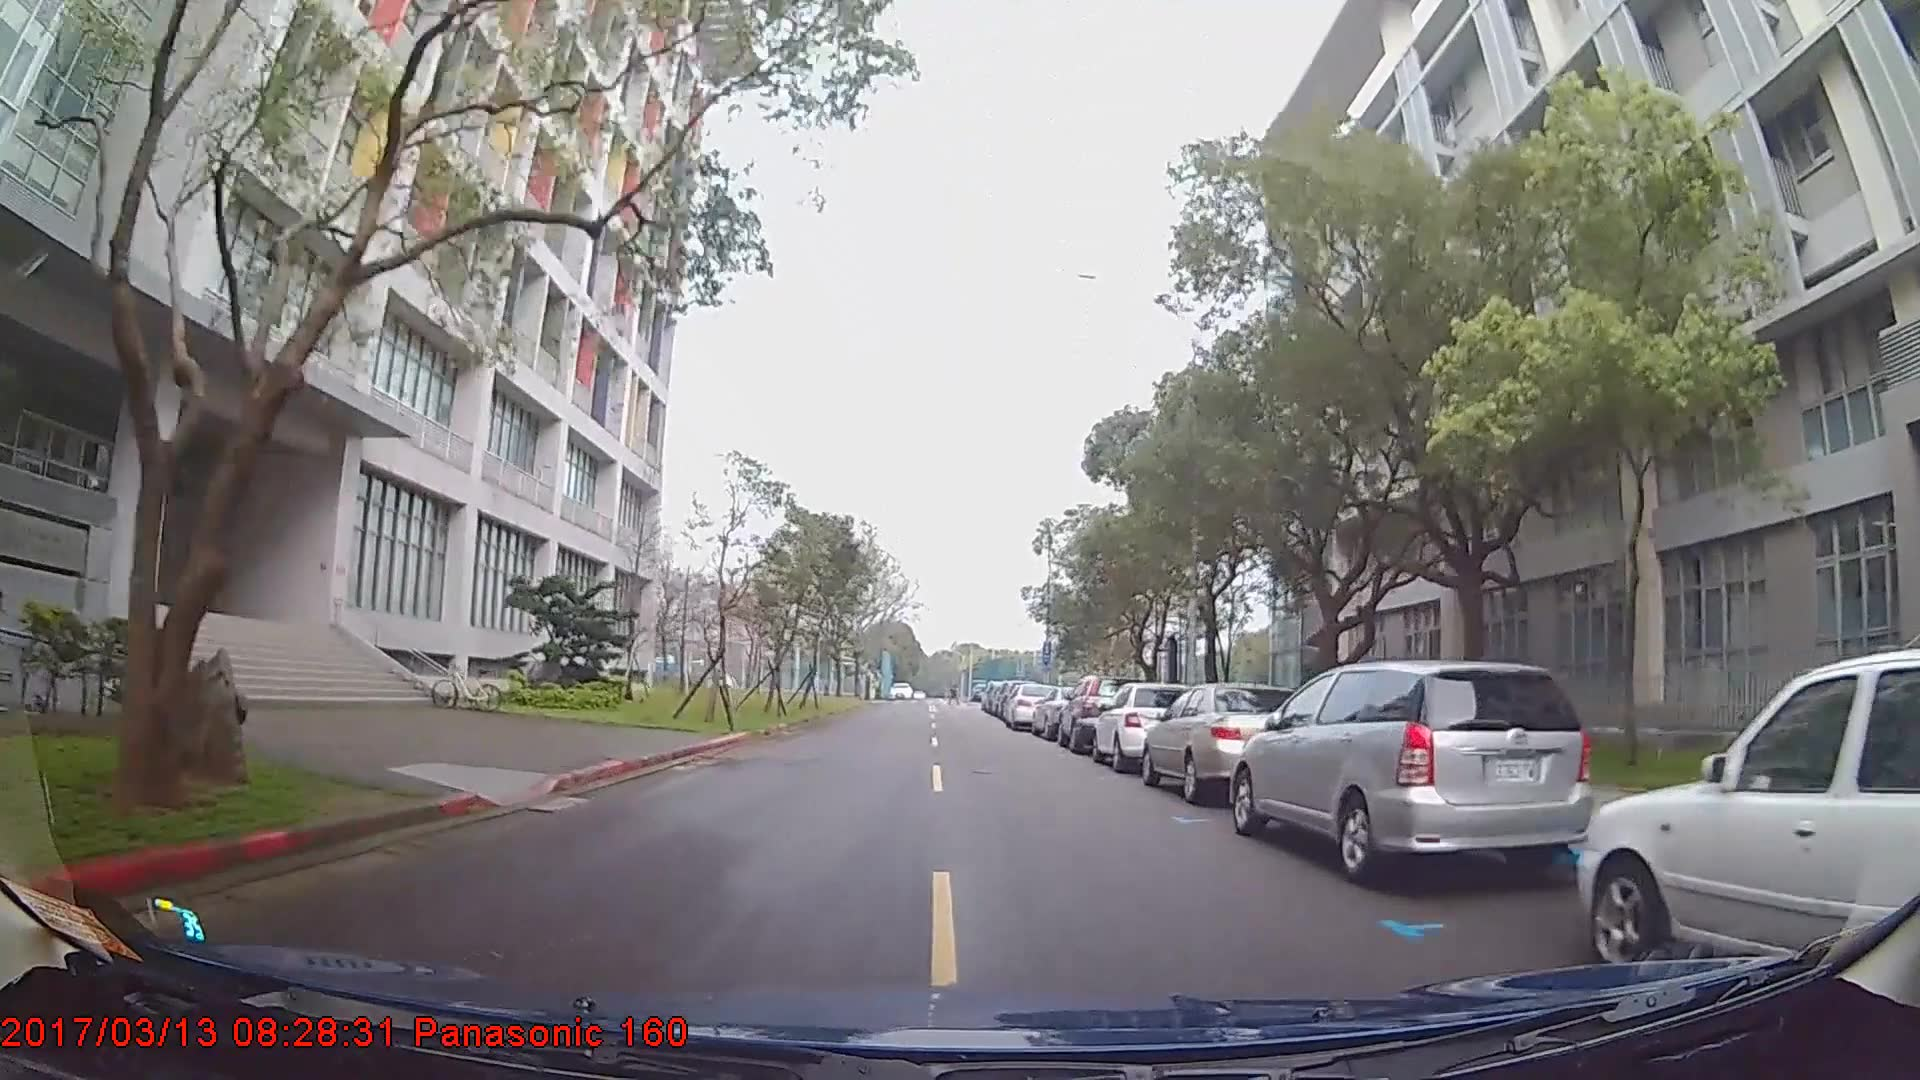vehicle: (1578, 647, 1920, 971), (1226, 657, 1594, 880), (1139, 680, 1309, 800), (1092, 680, 1193, 771), (1055, 675, 1141, 753), (1002, 679, 1062, 731)
